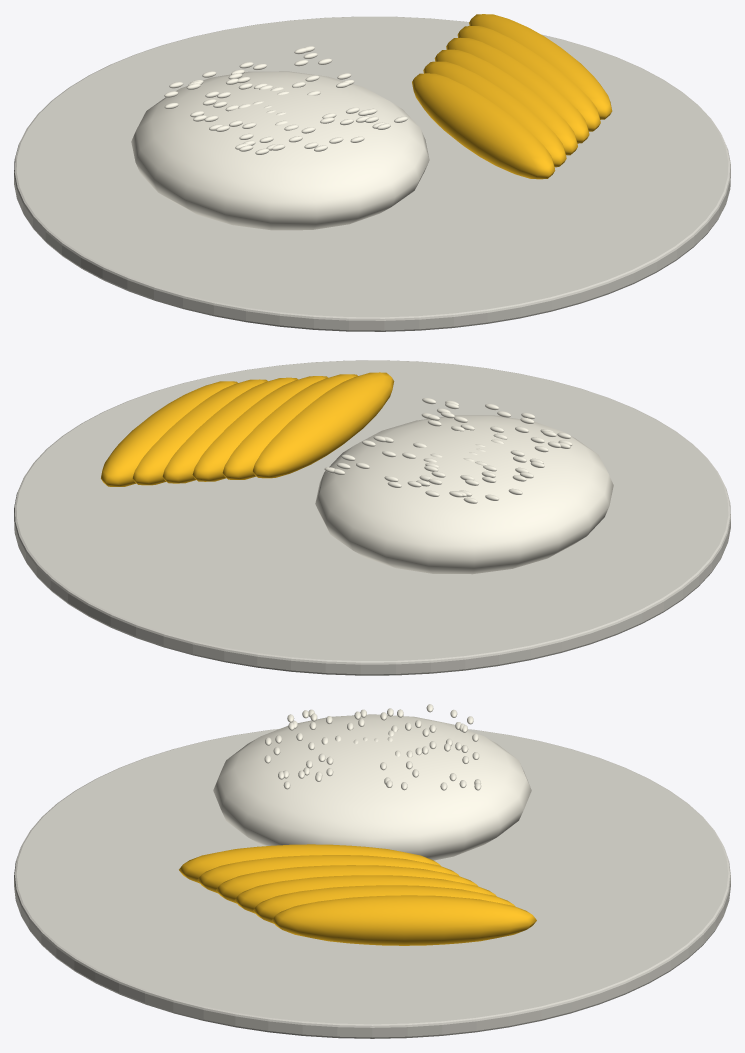
Rendered from mango-sticky-rice.glb.
The picture shows the model from 3 angles, top to bottom: view 1: azimuth 30°, elevation 25°; view 2: azimuth 150°, elevation 25°; view 3: azimuth 270°, elevation 25°; orthographic projection.
Visible parts, largest first — view 1: 27cm demo plate, Sticky rice, Mango slice.001, Mango slice, Mango slice.002, Mango slice.003, Mango slice.004, Mango slice.005; view 2: 27cm demo plate, Sticky rice, Mango slice.001, Mango slice, Mango slice.005, Mango slice.004, Mango slice.003, Mango slice.002; view 3: 27cm demo plate, Sticky rice, Mango slice, Mango slice.001, Mango slice.003, Mango slice.005, Mango slice.004, Mango slice.002.
Part boxes in pixels (box(x1,y1,x2,y2)): 27cm demo plate: box(14, 16, 730, 331); Sticky rice: box(131, 71, 429, 230); Mango slice.001: box(412, 73, 555, 179); Mango slice: box(469, 14, 612, 119); Mango slice.002: box(423, 61, 566, 167); Mango slice.003: box(434, 49, 577, 155); Mango slice.004: box(446, 37, 589, 143); Mango slice.005: box(457, 26, 600, 131); 27cm demo plate: box(14, 360, 730, 675); Sticky rice: box(315, 415, 613, 574); Mango slice.001: box(253, 372, 394, 478); Mango slice: box(101, 381, 237, 486); Mango slice.005: box(132, 379, 267, 485); Mango slice.004: box(162, 377, 297, 483); Mango slice.003: box(192, 376, 327, 481); Mango slice.002: box(222, 374, 357, 479); 27cm demo plate: box(14, 729, 730, 1038); Sticky rice: box(213, 714, 531, 860); Mango slice: box(271, 895, 536, 945); Mango slice.001: box(179, 844, 440, 883); Mango slice.003: box(216, 865, 477, 903); Mango slice.005: box(253, 885, 515, 923); Mango slice.004: box(234, 875, 496, 913); Mango slice.002: box(197, 855, 458, 893).
Size of the model in its own units: 0.27 by 0.041 by 0.27.
